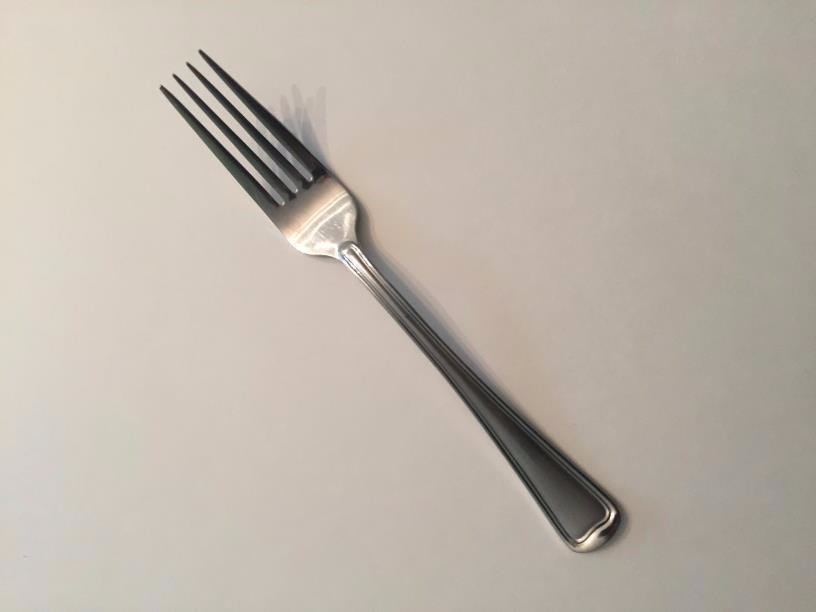fork: (123, 32, 663, 565)
